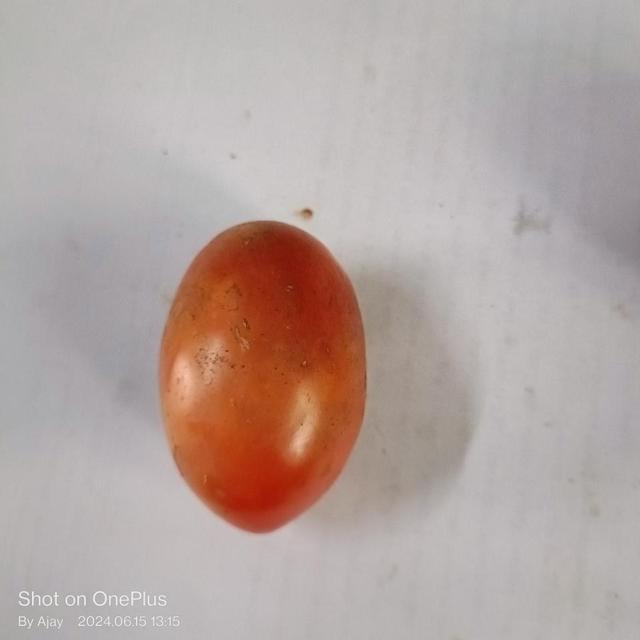Bacterial Spot Fruit: (199, 238, 208, 246)
